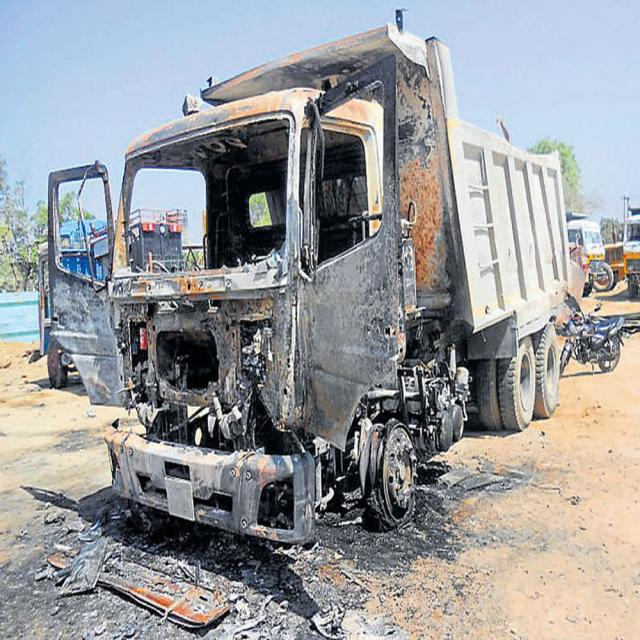accident: (50, 25, 570, 543)
motorcycle: (558, 293, 625, 376)
